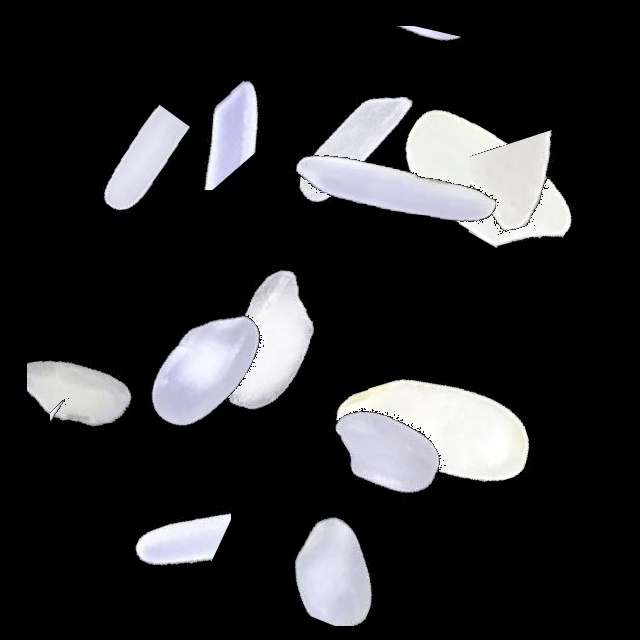Broken: (27, 263, 201, 513), (226, 454, 476, 626), (48, 57, 210, 307), (470, 75, 591, 325), (65, 73, 315, 190), (129, 383, 231, 633), (50, 309, 151, 559), (283, 26, 533, 123)
Full: (360, 59, 610, 309), (229, 25, 479, 275), (307, 309, 557, 559), (261, 324, 511, 574), (144, 216, 394, 466), (82, 243, 332, 493), (269, 62, 519, 312)
